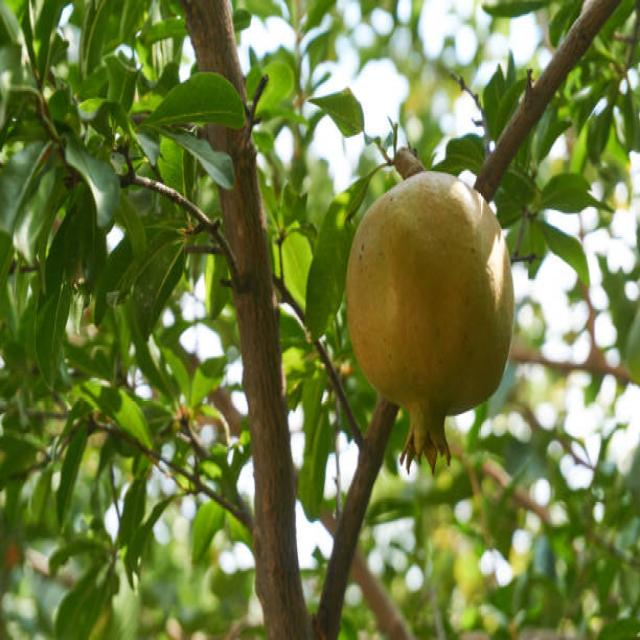Unripe: (345, 165, 518, 473)
